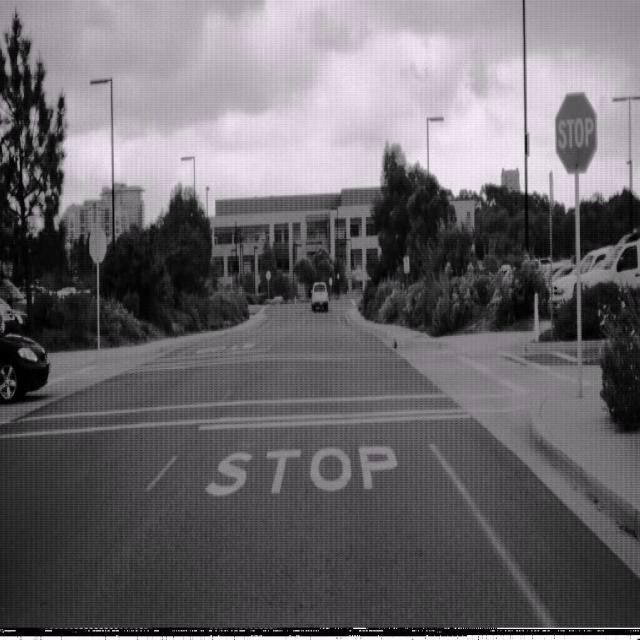stop: (554, 90, 598, 174)
